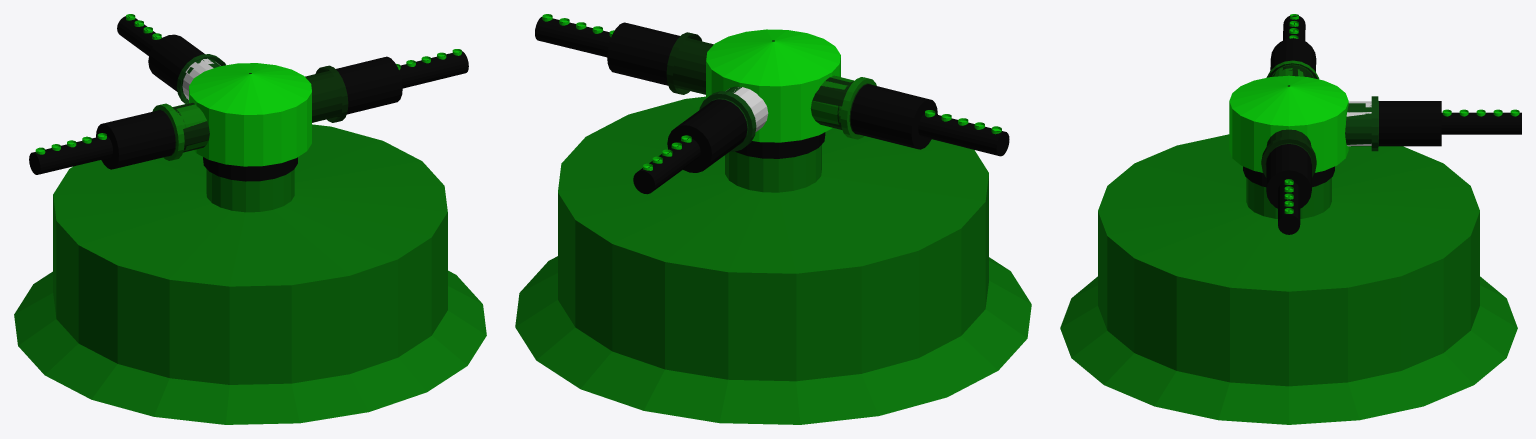
File: Slime sprinkler.obj
3 renders of one model, left to right at view 1: azimuth 30°, elevation 25°; view 2: azimuth 150°, elevation 25°; view 3: azimuth 270°, elevation 25°, orthographic. The views are drawn at different scales.
Visible parts, largest first — view 1: Cylinder, Cylinder.001, Cylinder.019, Cylinder.002, Cylinder.013; view 2: Cylinder, Cylinder.001, Cylinder.019, Cylinder.002, Cylinder.013; view 3: Cylinder, Cylinder.001, Cylinder.013, Cylinder.002, Cylinder.019.
Boxes of the visible parts, bbox=[...] form: Cylinder: bbox=[14, 124, 486, 424]; Cylinder.001: bbox=[189, 63, 311, 181]; Cylinder.019: bbox=[29, 102, 209, 174]; Cylinder.002: bbox=[305, 51, 468, 122]; Cylinder.013: bbox=[117, 16, 225, 103]; Cylinder: bbox=[515, 96, 1031, 424]; Cylinder.001: bbox=[706, 29, 840, 158]; Cylinder.019: bbox=[810, 75, 1009, 156]; Cylinder.002: bbox=[535, 17, 713, 94]; Cylinder.013: bbox=[633, 86, 768, 194]; Cylinder: bbox=[1060, 134, 1517, 424]; Cylinder.001: bbox=[1229, 75, 1348, 187]; Cylinder.013: bbox=[1345, 96, 1521, 151]; Cylinder.002: bbox=[1261, 129, 1316, 234]; Cylinder.019: bbox=[1266, 15, 1319, 79].
Size of the model in its own units: 1.04 by 0.5891 by 1.02.
